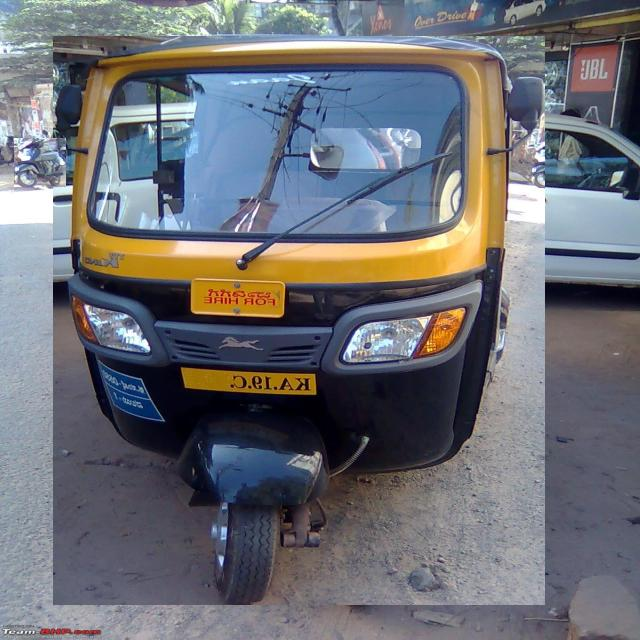autorickshaw: (53, 36, 545, 605)
car: (523, 114, 640, 287)
motorcycle: (15, 139, 66, 187)
